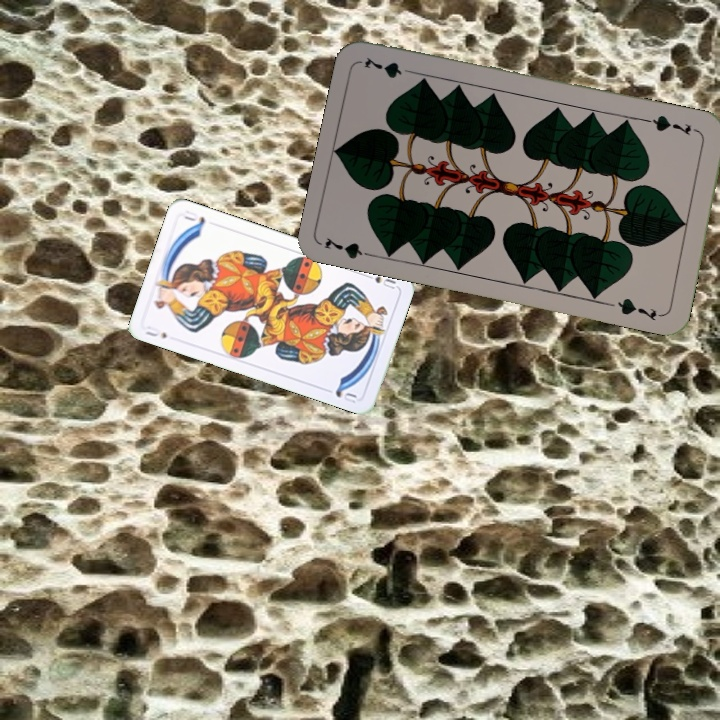G7: (321, 233, 380, 262), (644, 111, 694, 138)
SU: (360, 270, 398, 292), (141, 324, 169, 341)
